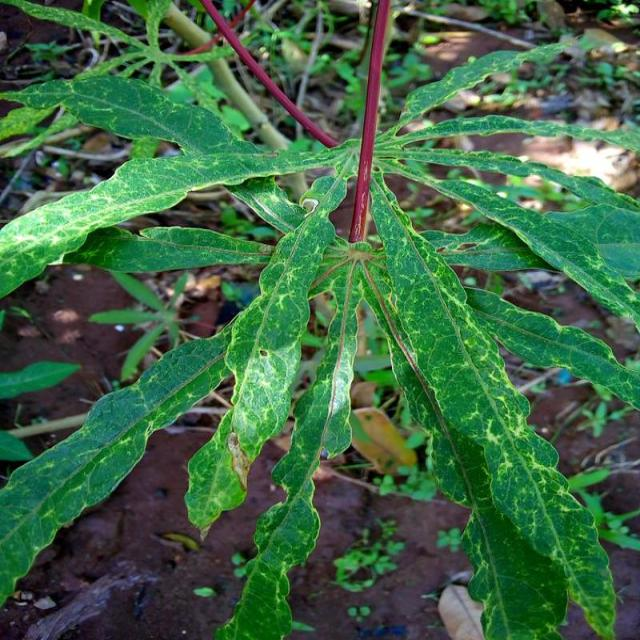cassava leaf: (0, 2, 638, 638), (364, 165, 618, 638)
